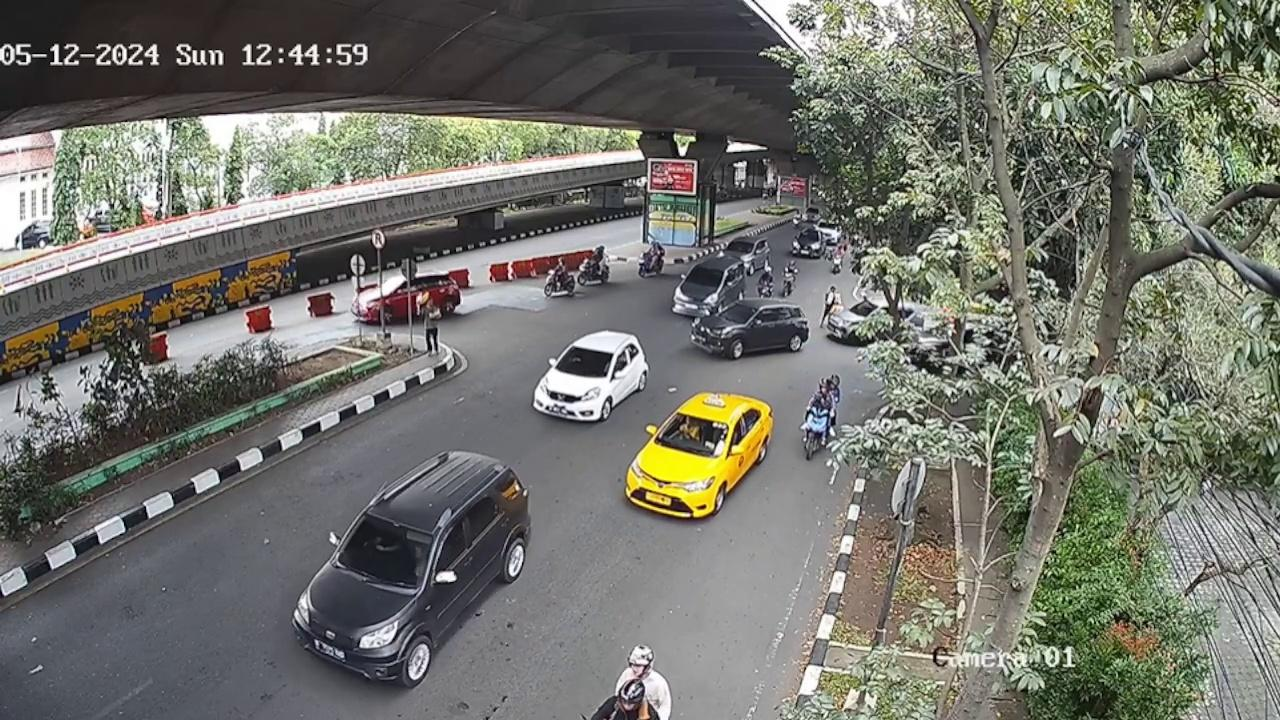tidak-pakai: (676, 419, 702, 445)
windshield: (334, 508, 435, 587), (654, 412, 728, 459), (553, 345, 614, 379)
